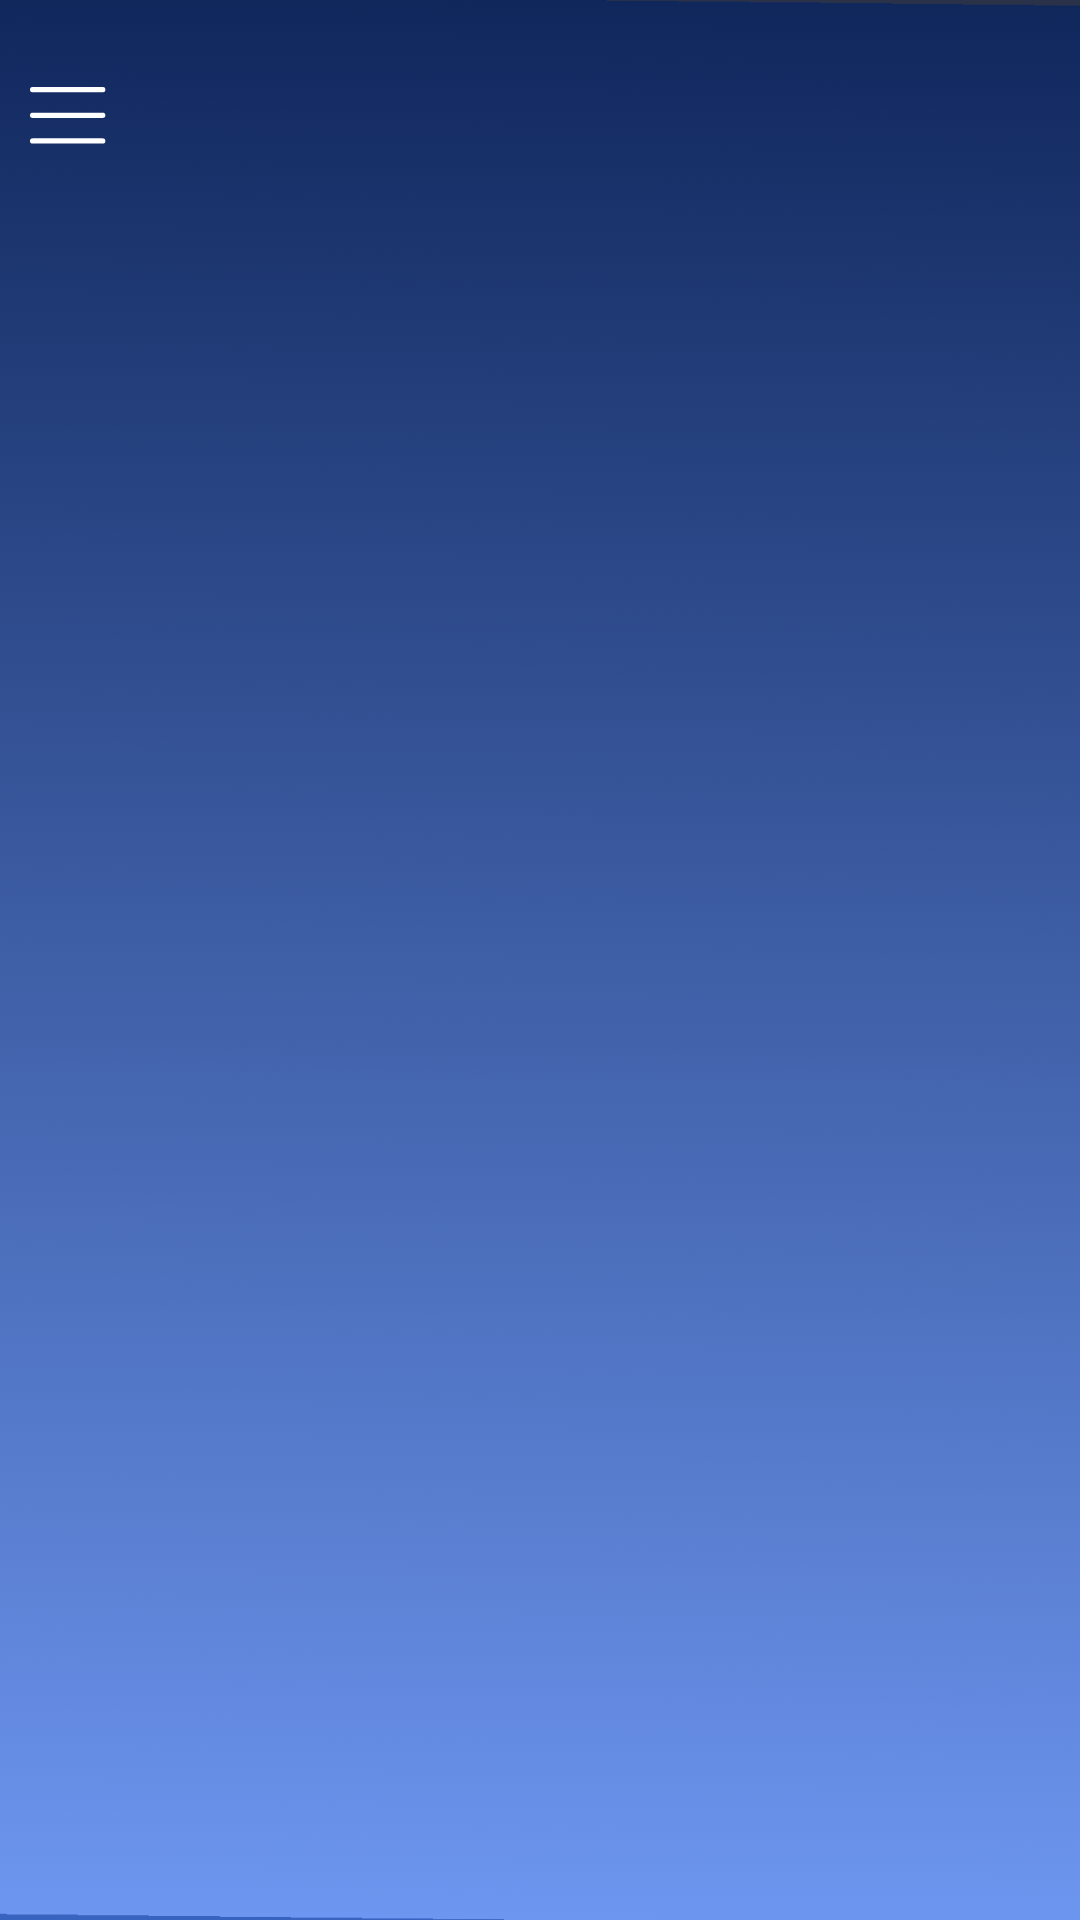

Icons on this 1080 x 1920 Android screen, each with the point to tap as (x=x, y=y):
menu: (x=68, y=115)
